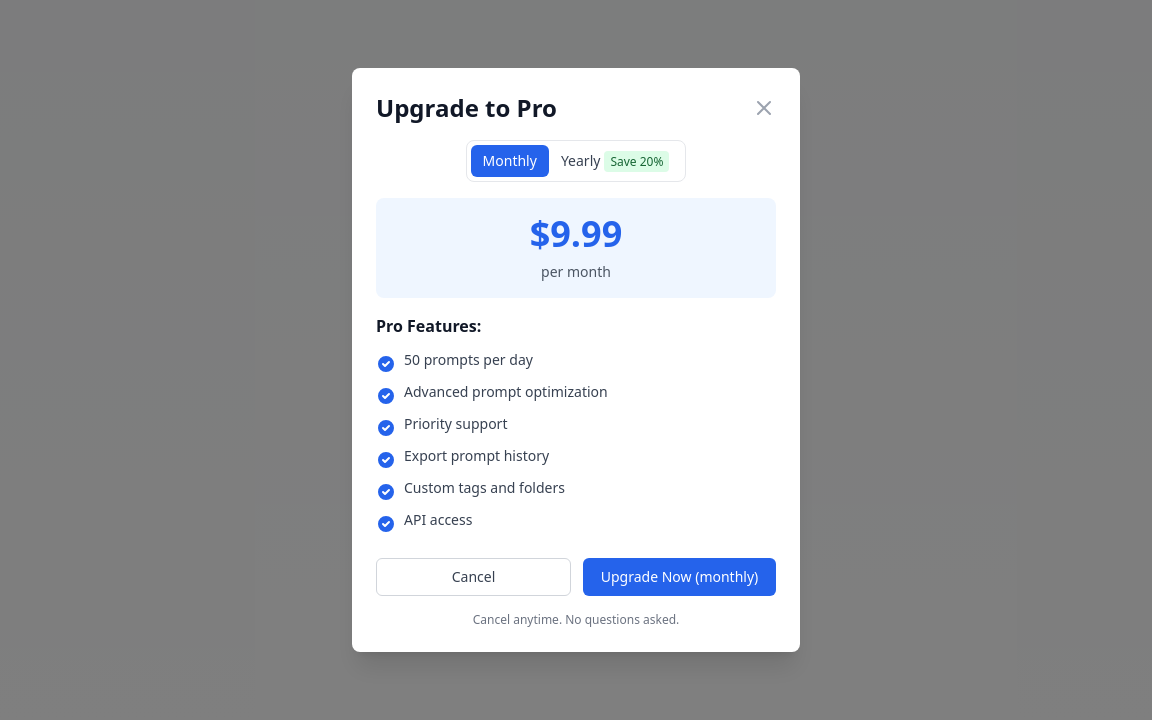
Test: UpgradeModal › should display error message on failure
Click the button "Upgrade Now (monthly)".
click(680, 577)  # box [583,558,776,596]
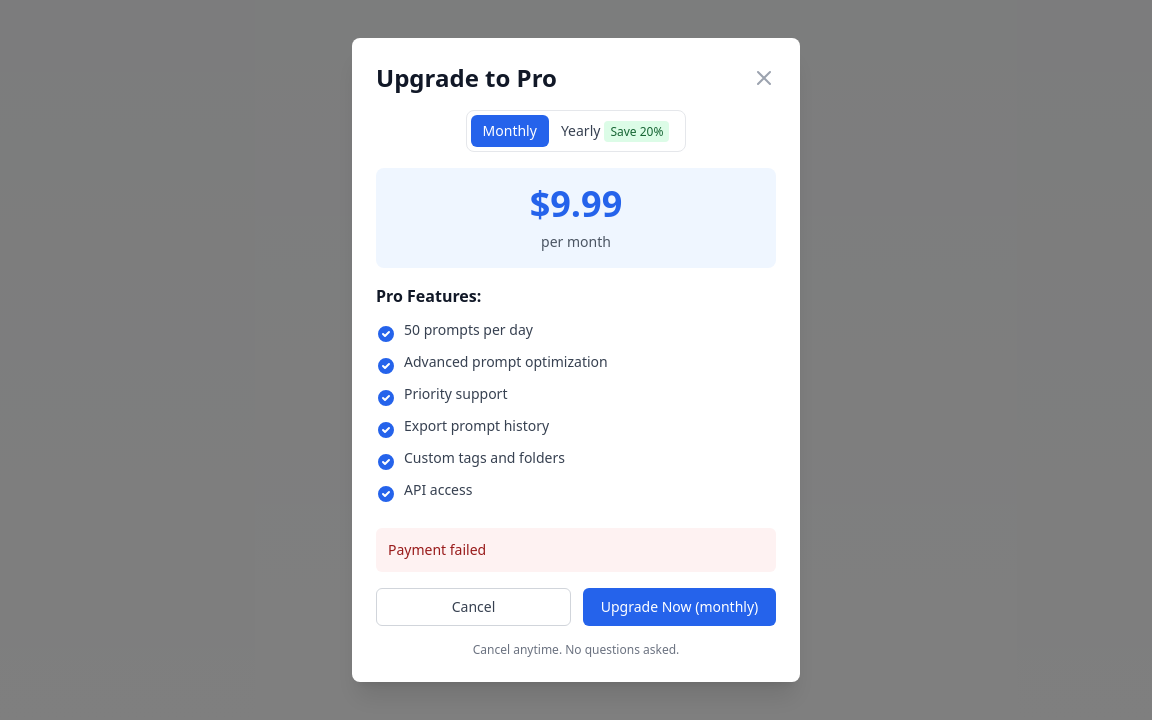
expect the text "Payment failed" is shown: met, box [388,540,486,559]
